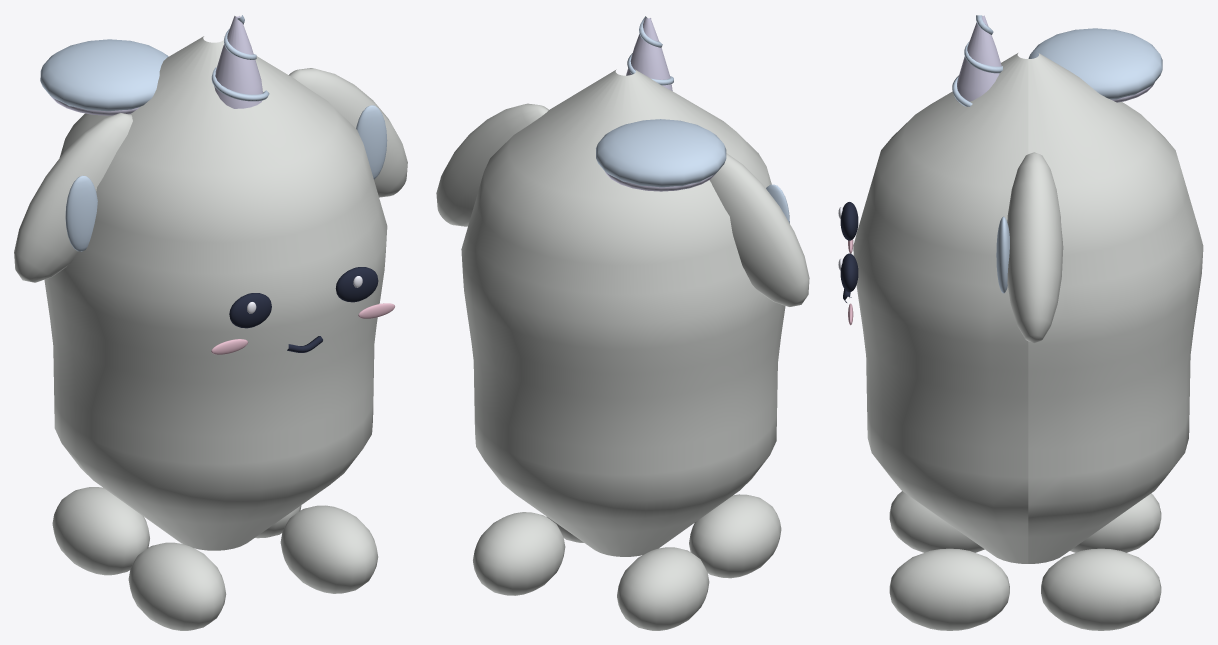
The model's file is growing.glb.
3 views of the same model, side by side, from view 1: azimuth 30°, elevation 25°; view 2: azimuth 150°, elevation 25°; view 3: azimuth 270°, elevation 25° (orthographic). The views are drawn at different scales.
Parts seen in each view (by area): view 1: Body, EarShell-1, HatDome, Sole_R_Front, Sole_L_Front, Sole_L_Back, EarShell1, PearlHorn, EarTint-1, EarTint1, Eye_L, Eye_R (+1 smaller); view 2: Body, EarShell-1, HatDome, Sole_L_Back, Sole_R_Back, Sole_L_Front, EarShell1, PearlHorn; view 3: Body, EarShell1, Sole_R_Front, Sole_R_Back, HatDome, Sole_L_Front, Sole_L_Back, PearlHorn, EarTint1, HornSpiral, Eye_R, Eye_L.
Boxes of the visible parts, x1,y1,x2,y2 form: Body: [44, 36, 387, 550]; EarShell-1: [14, 113, 132, 282]; HatDome: [40, 39, 168, 111]; Sole_R_Front: [280, 505, 378, 593]; Sole_L_Front: [128, 542, 226, 630]; Sole_L_Back: [52, 487, 149, 575]; EarShell1: [289, 68, 407, 197]; PearlHorn: [214, 16, 262, 108]; EarTint-1: [65, 175, 97, 251]; EarTint1: [356, 105, 387, 179]; Eye_L: [229, 293, 271, 328]; Eye_R: [335, 267, 378, 302]; Body: [461, 69, 785, 556]; EarShell-1: [709, 153, 809, 306]; HatDome: [596, 119, 726, 187]; Sole_L_Back: [617, 547, 709, 630]; Sole_R_Back: [473, 512, 565, 595]; Sole_L_Front: [689, 494, 781, 578]; EarShell1: [436, 103, 548, 226]; PearlHorn: [626, 18, 672, 90]; Body: [853, 53, 1203, 563]; EarShell1: [1007, 152, 1063, 342]; Sole_R_Front: [889, 548, 1009, 630]; Sole_R_Back: [1041, 548, 1161, 630]; HatDome: [1028, 28, 1162, 99]; Sole_L_Front: [889, 491, 984, 552]; Sole_L_Back: [1070, 493, 1161, 552]; PearlHorn: [956, 15, 1001, 101]; EarTint1: [996, 216, 1009, 293]; HornSpiral: [952, 15, 1002, 106]; Eye_R: [840, 253, 858, 292]; Eye_L: [840, 202, 858, 240].
Bounding box in the file's own units: 1.54 × 2.19 × 1.25.
